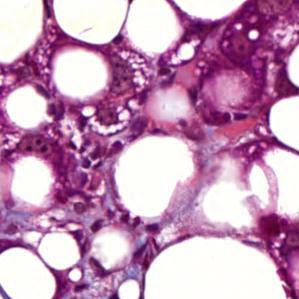steatosis: (38, 229, 81, 271)
